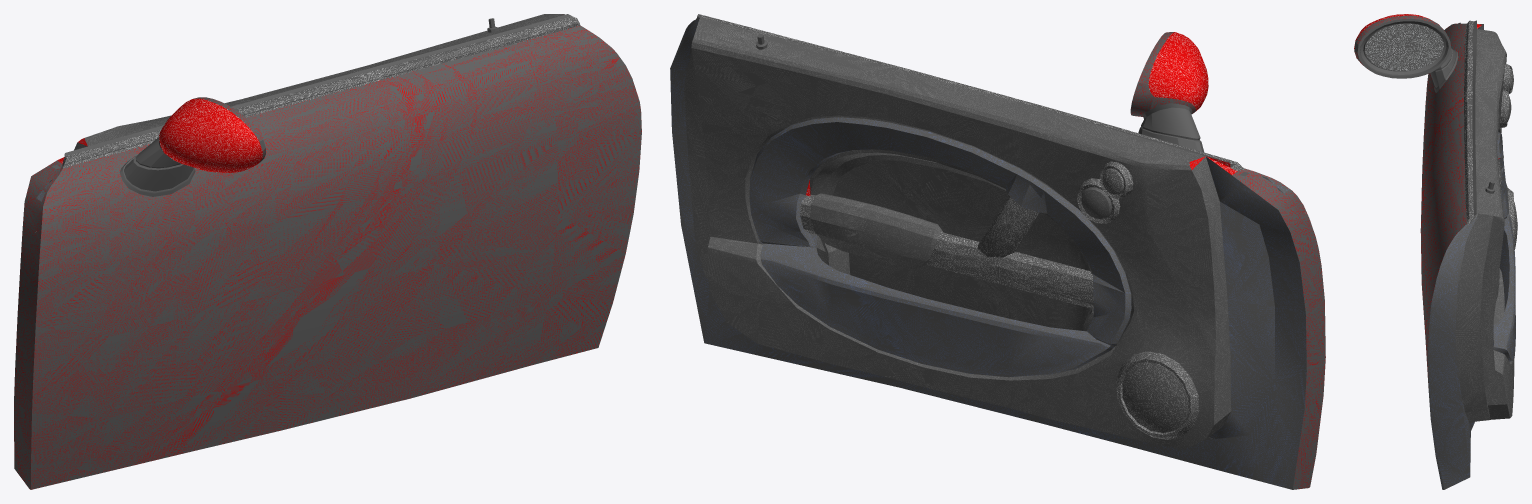
The model's file is car-door.dae.
The picture shows the model from 3 angles, left to right: view 1: azimuth 30°, elevation 25°; view 2: azimuth 150°, elevation 25°; view 3: azimuth 270°, elevation 25°; orthographic projection. The views are drawn at different scales.
Parts seen in each view (by area): view 1: instance_10.155, instance_10.147, instance_10.162, instance_10.154, instance_10.152, instance_10.158; view 2: instance_10.154, instance_10.144, instance_10.161, instance_10.132, instance_10.143, instance_10.155, instance_10.151, instance_10.139, instance_10.147, instance_10.136, instance_10.152, instance_10.162 (+2 smaller); view 3: instance_10.154, instance_10.155, instance_10.161, instance_10.146, instance_10.144, instance_10.162, instance_10.150, instance_10.158, instance_10.152, instance_10.149, instance_10.132, instance_10.140 (+1 smaller).
Part boxes in pixels (x1,y1,x2,y2): instance_10.155: [14, 25, 641, 489]; instance_10.147: [159, 98, 262, 172]; instance_10.162: [62, 16, 579, 167]; instance_10.154: [74, 14, 565, 150]; instance_10.152: [119, 137, 195, 196]; instance_10.158: [65, 14, 571, 155]; instance_10.154: [684, 17, 1231, 449]; instance_10.144: [749, 117, 1131, 377]; instance_10.161: [670, 17, 1306, 489]; instance_10.132: [810, 149, 1093, 331]; instance_10.143: [927, 196, 1093, 308]; instance_10.155: [1232, 168, 1325, 489]; instance_10.151: [810, 193, 943, 269]; instance_10.139: [1122, 361, 1188, 433]; instance_10.147: [1148, 32, 1208, 110]; instance_10.136: [1116, 351, 1199, 439]; instance_10.152: [1138, 103, 1204, 152]; instance_10.162: [698, 14, 1244, 170]; instance_10.154: [1455, 29, 1514, 422]; instance_10.155: [1420, 23, 1483, 387]; instance_10.161: [1428, 24, 1483, 489]; instance_10.146: [1364, 23, 1443, 70]; instance_10.144: [1493, 132, 1515, 361]; instance_10.162: [1464, 20, 1477, 223]; instance_10.150: [1354, 18, 1450, 78]; instance_10.158: [1471, 20, 1477, 217]; instance_10.152: [1430, 48, 1458, 92]; instance_10.149: [1354, 15, 1445, 68]; instance_10.132: [1493, 268, 1504, 323]; instance_10.140: [1500, 90, 1508, 128].
Bounding box in the file's own units: 1.26 × 0.3473 × 0.7226.
